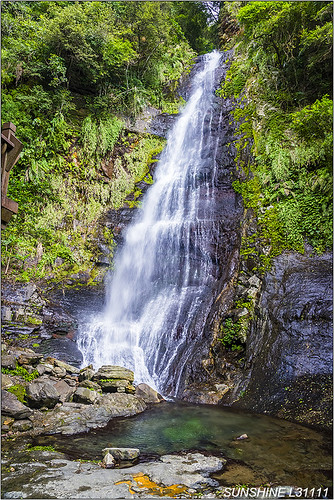wufengciWaterfall: (98, 47, 243, 401)
